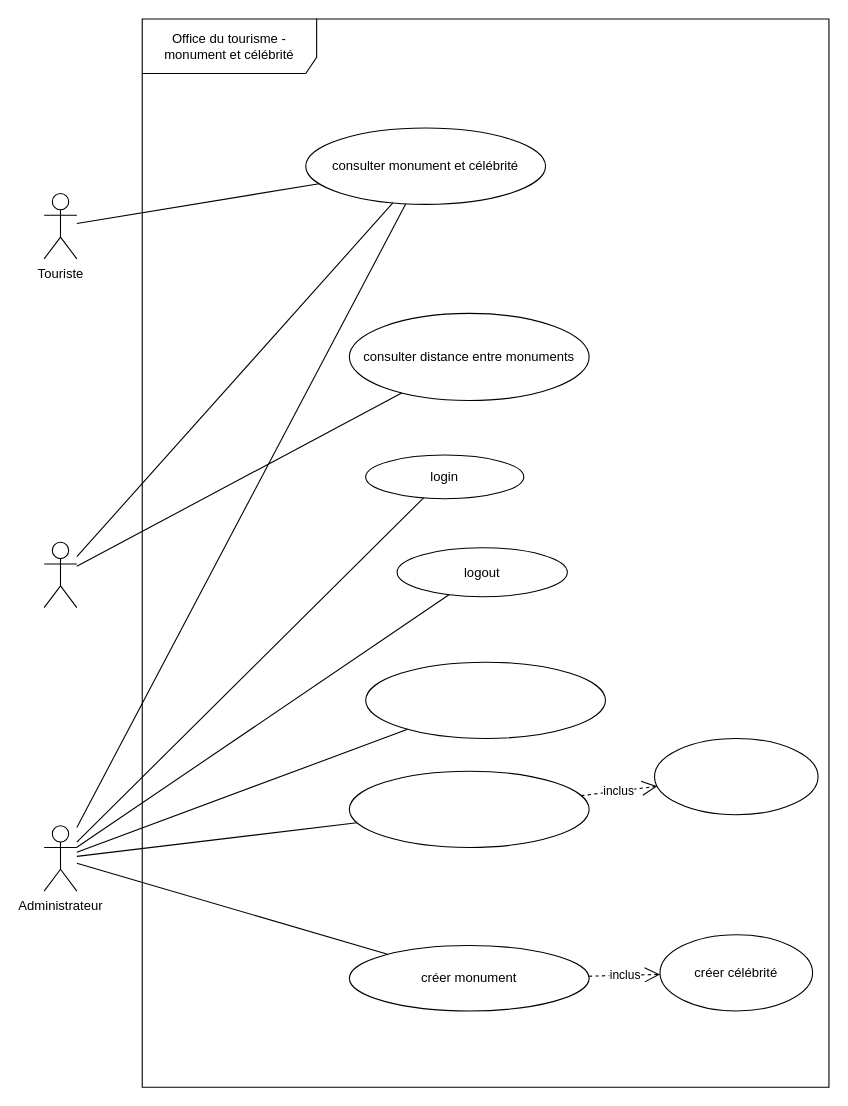
The diagram is 848 pixels wide and 1106 high, and some of its shapes have lost their labels. The shapes that lost their labels are listed below. From the top down, each one's centre as x and y in pixels, then its label:
At (60,574): "Voyagiste".
At (485,699): "supprimer monument".
At (735,776): "changer célébrité".
At (468,808): "modifier monument".
